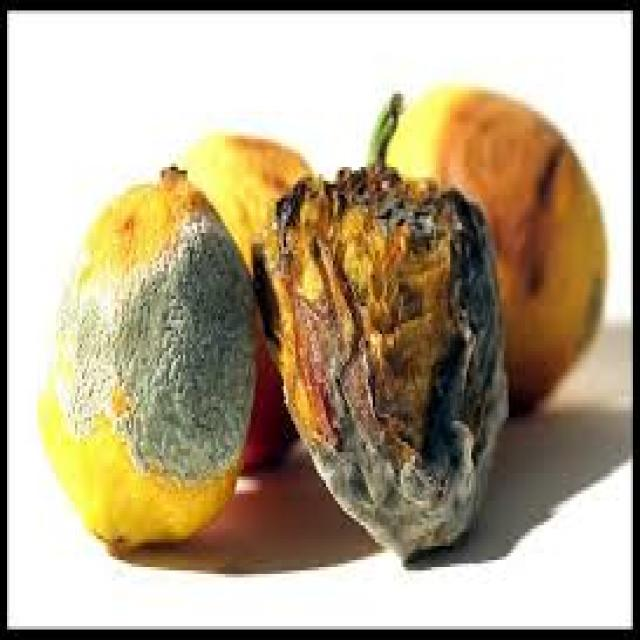organic waste: (248, 90, 506, 560), (35, 160, 253, 553), (380, 83, 605, 414), (178, 128, 319, 476)
